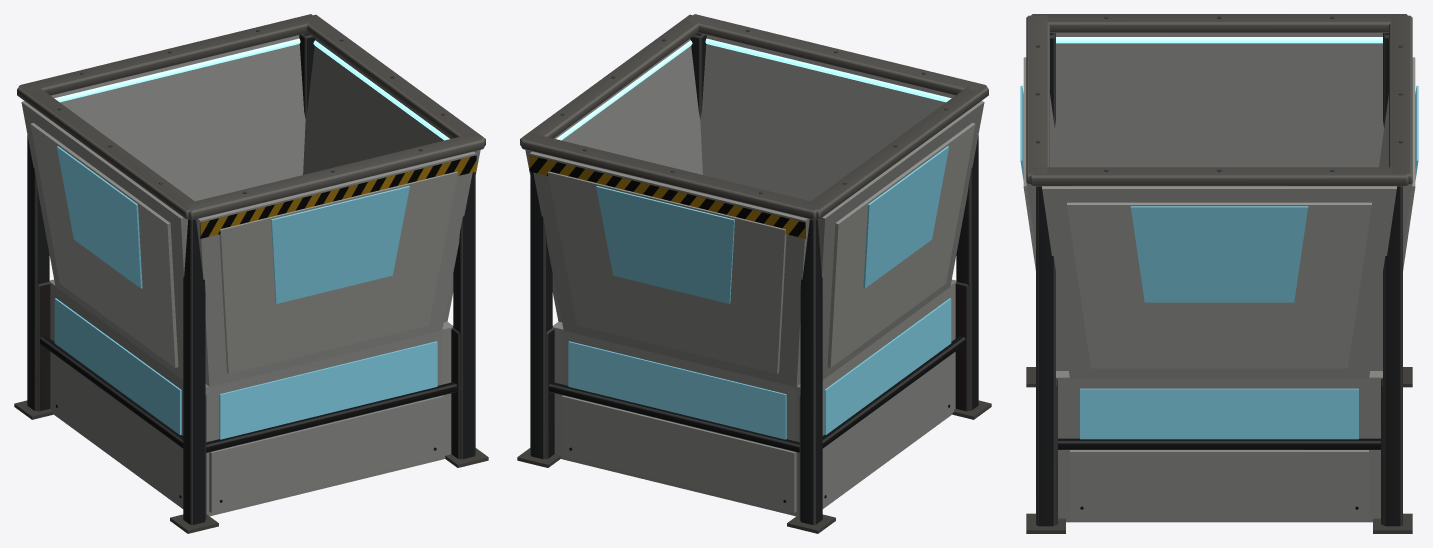
The model's file is chute_adv_hopper_up.glb.
The picture shows the model from 3 angles, left to right: view 1: azimuth 30°, elevation 25°; view 2: azimuth 150°, elevation 25°; view 3: azimuth 270°, elevation 25°; orthographic projection. The views are drawn at different scales.
Parts seen in each view (by area): view 1: Frame, Power; view 2: Frame, Power; view 3: Frame, Power.
Boxes of the visible parts, left/top/right/bottom form: Frame: left=14, top=14, right=488, bottom=533; Power: left=54, top=38, right=449, bottom=140; Frame: left=517, top=14, right=991, bottom=533; Power: left=556, top=38, right=951, bottom=140; Frame: left=1020, top=14, right=1418, bottom=533; Power: left=1056, top=37, right=1382, bottom=43.
Bounding box in the file's own units: 2 × 1.99 × 2.
